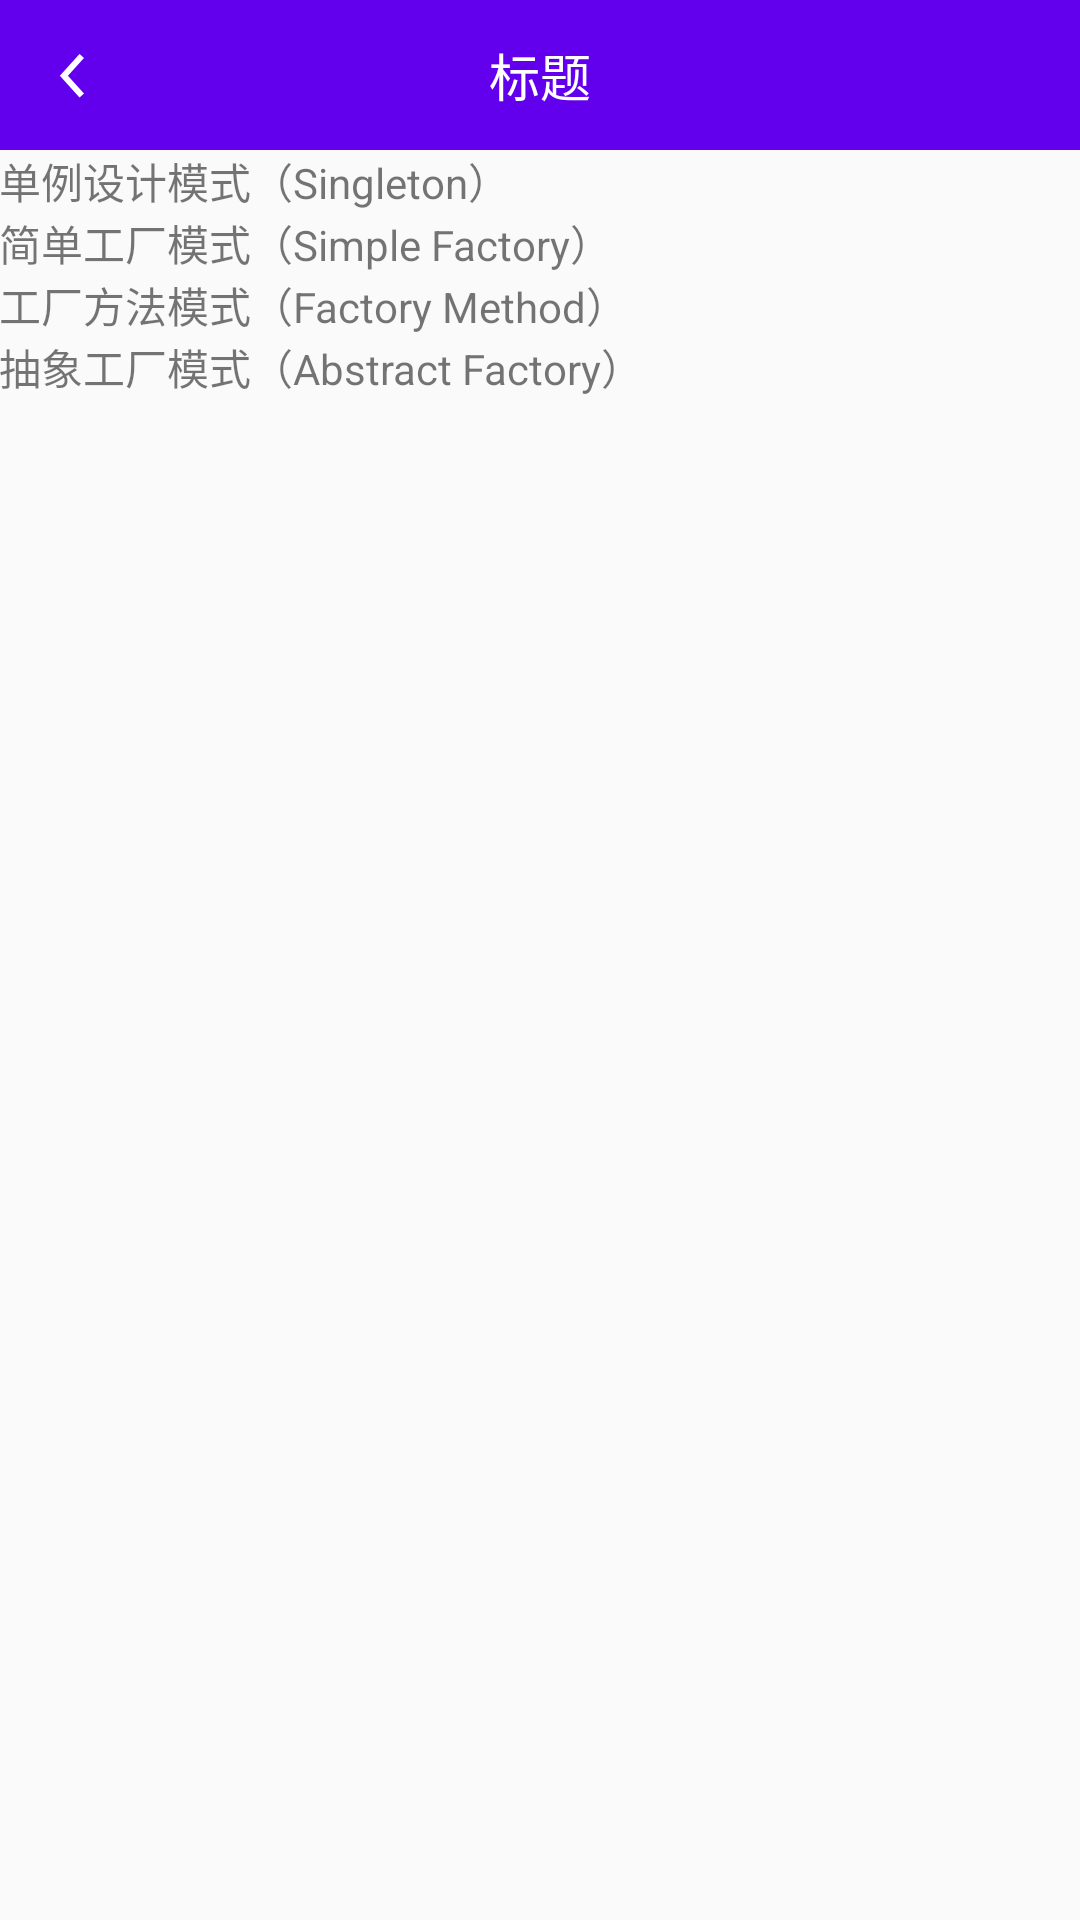

Screen size 1080 x 1920. Icon name, then its center in pixels as (x=x, y=y):
back: (x=72, y=76)
